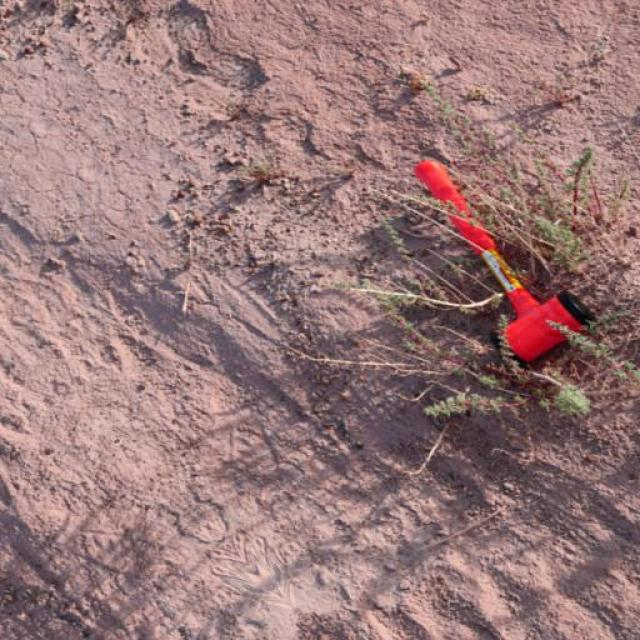mallet: (414, 156, 598, 362)
